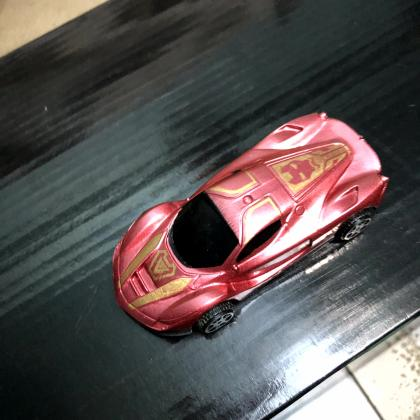Car: (110, 111, 389, 343)
